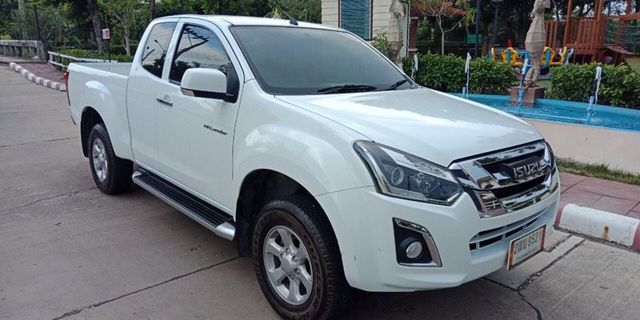pickup: (64, 11, 560, 317)
